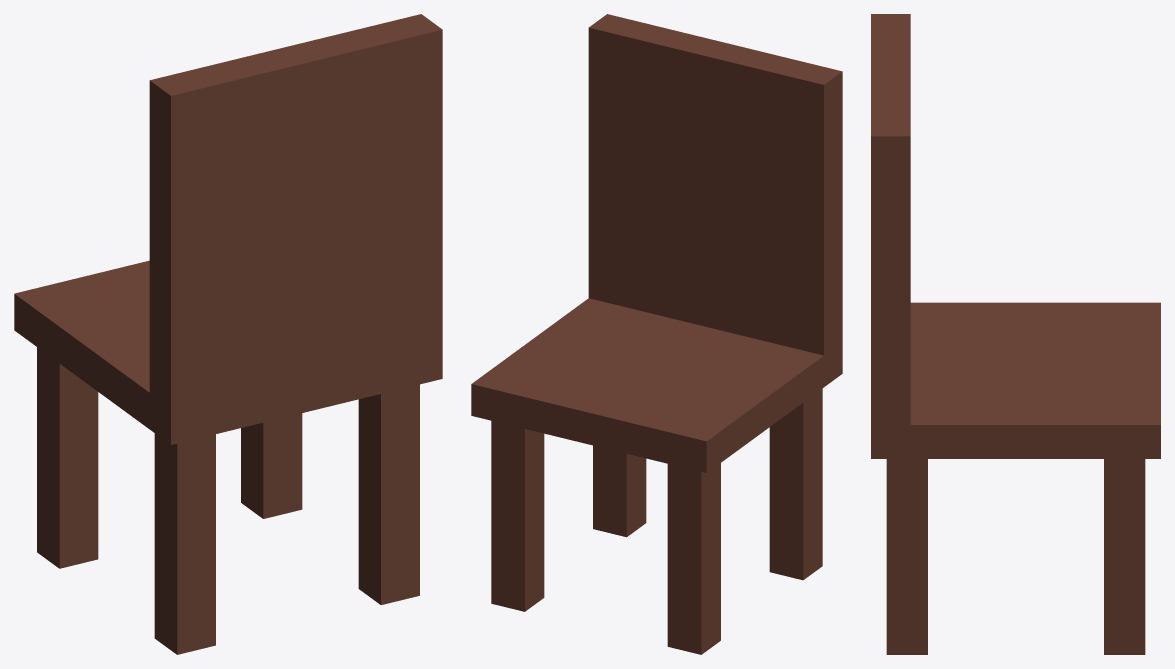
File: Chair.fbx
3 views of the same model, side by side, from view 1: azimuth 30°, elevation 25°; view 2: azimuth 150°, elevation 25°; view 3: azimuth 270°, elevation 25° (orthographic). The views are drawn at different scales.
Visible parts, largest first — view 1: Chair; view 2: Chair; view 3: Chair.
Part boxes in pixels (left/top/right/bottom): Chair: left=14, top=14, right=442, bottom=654; Chair: left=471, top=14, right=842, bottom=654; Chair: left=871, top=14, right=1160, bottom=654.
Size of the model in its own units: 0.25 by 0.25 by 0.5.
